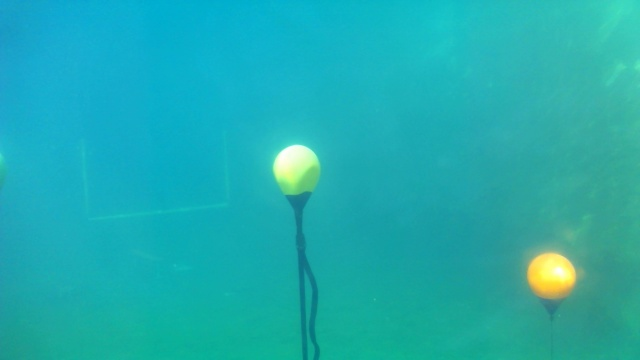channel: (79, 134, 229, 221)
